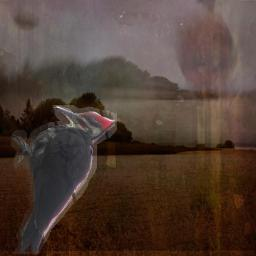Woodpecker: (11, 105, 117, 254)
